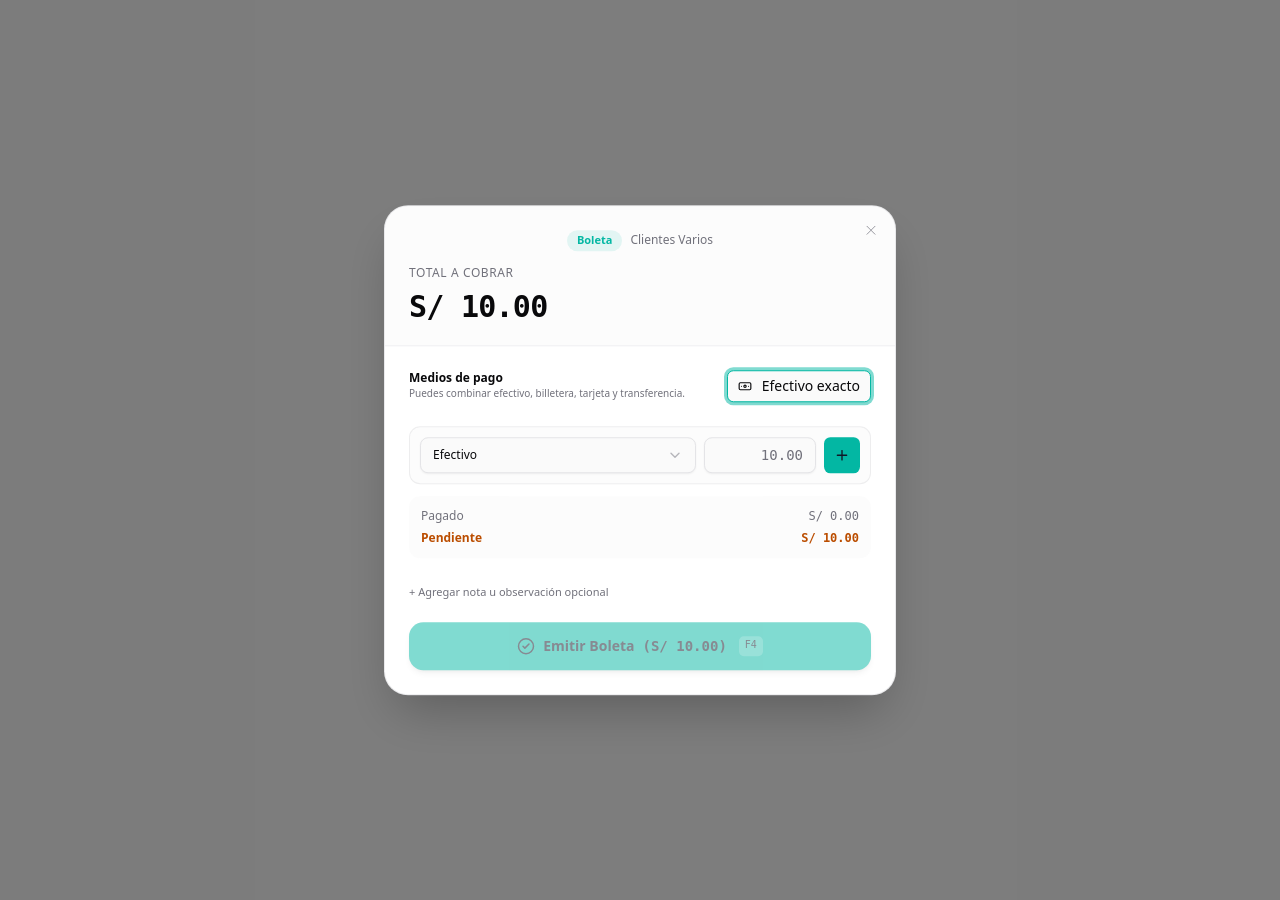
Test case: checkout modal › shows the server's sale error and keeps the cart for correction
The width and height of the screenshot is (1280, 900).
What coordinates should you click on to do the following:
click the button "Efectivo exacto"
I would click on:
 (799, 386)
Its box is [727, 370, 871, 402].
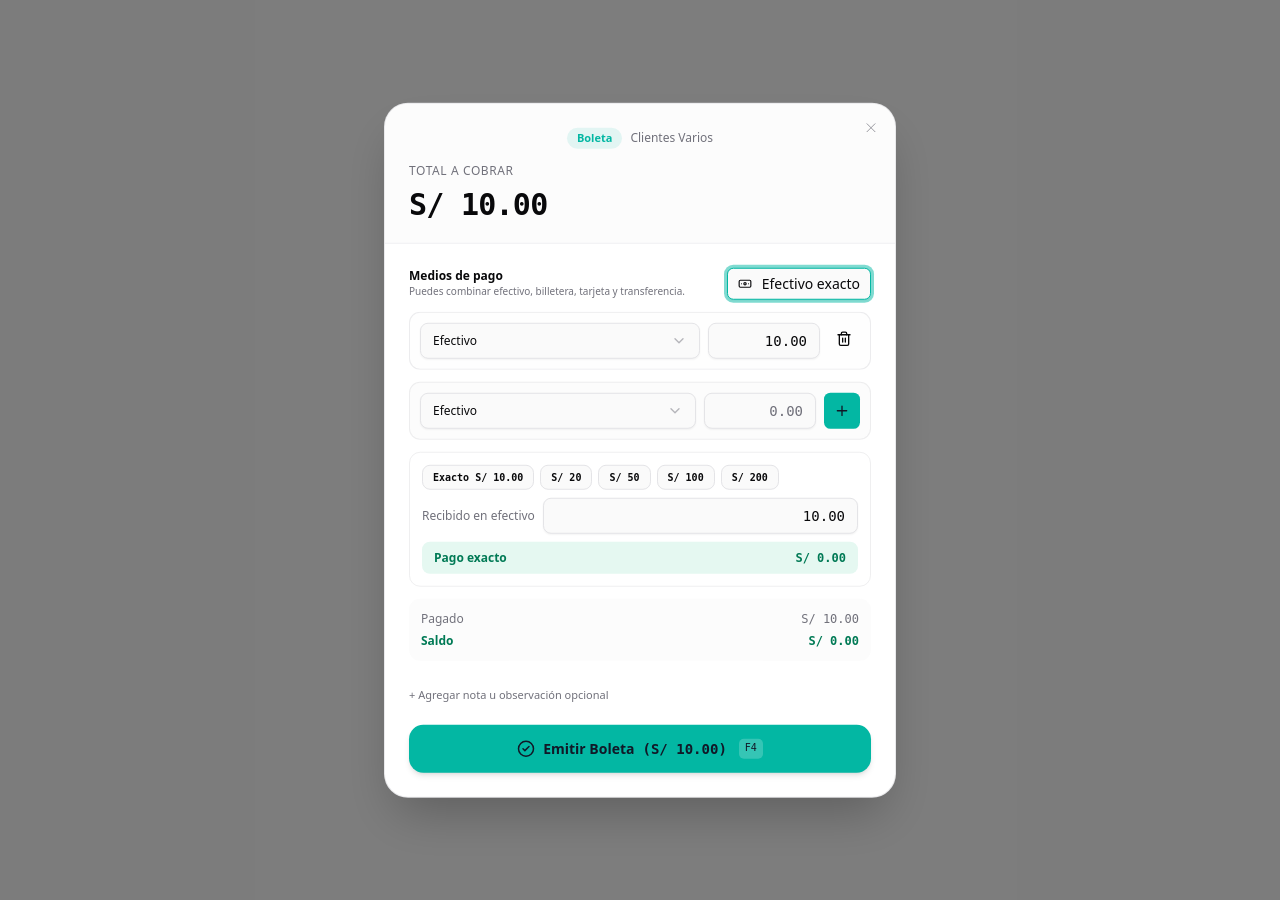
What coordinates should you click on to do the following:
click the button "Emitir Boleta (S/ 10.00) F4"
I would click on:
 (640, 748)
Its box is [409, 724, 871, 772].
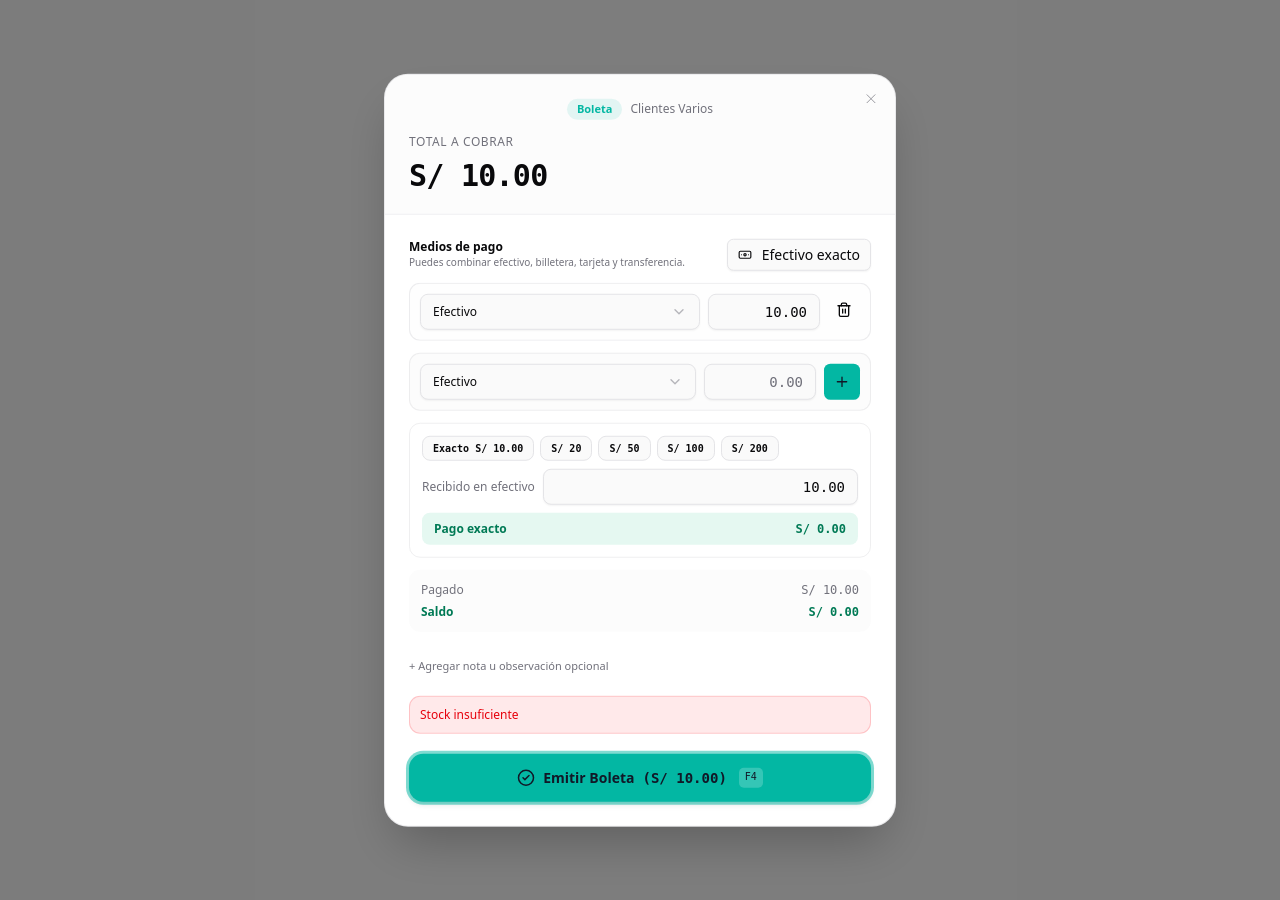
Expected: the text "Stock insuficiente" is shown, [409, 695, 871, 733]
